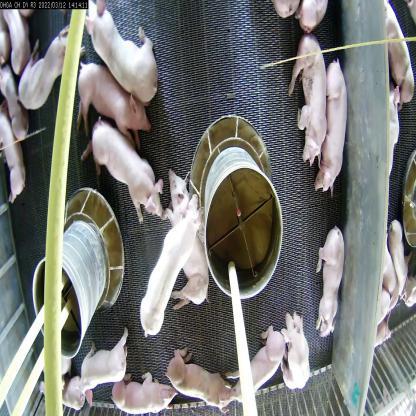Pig: (88, 111, 165, 226), (83, 1, 160, 108), (167, 156, 216, 314), (146, 200, 194, 344), (7, 26, 82, 116), (284, 46, 334, 175), (79, 62, 138, 158), (165, 353, 229, 416), (106, 372, 187, 415), (236, 332, 281, 405), (324, 59, 346, 201), (76, 334, 131, 390), (322, 229, 342, 347), (0, 115, 24, 204), (280, 324, 303, 388)
